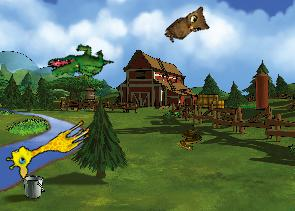crocodile: (45, 33, 114, 93)
giraffe: (2, 109, 94, 182)
owl: (162, 2, 215, 53)
